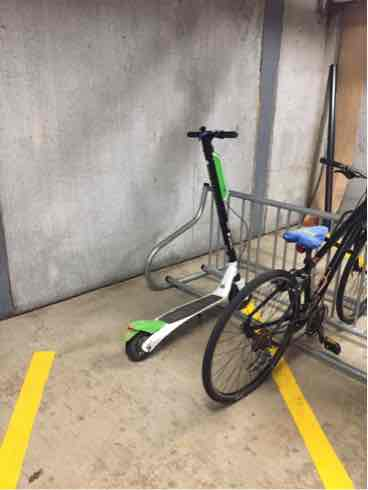scooter: (112, 114, 254, 379)
